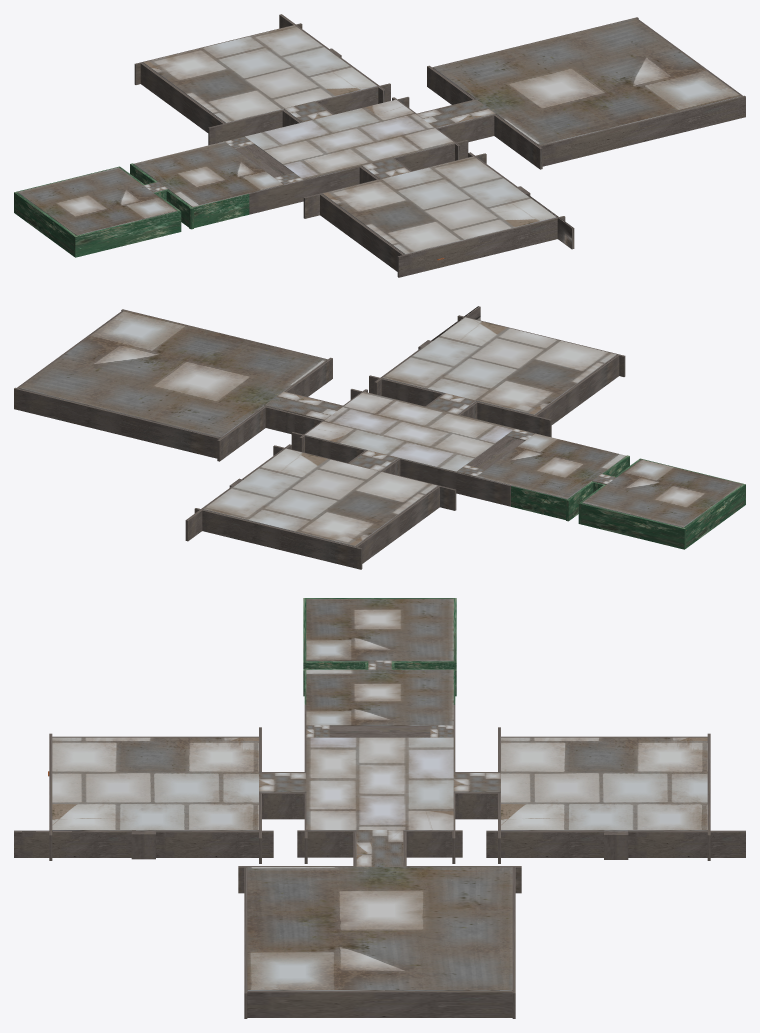
File: Stage.fbx
The picture shows the model from 3 angles, top to bottom: view 1: azimuth 30°, elevation 25°; view 2: azimuth 150°, elevation 25°; view 3: azimuth 270°, elevation 25°; orthographic projection. The views are drawn at different scales.
Parts seen in each view (by area): view 1: roof, wall_out, Green_Wall, wall_in; view 2: roof, wall_out, Green_Wall, wall_in; view 3: roof, wall_out, Green_Wall, wall_in.
Part boxes in pixels (left/top/right/bottom): roof: left=17, top=18, right=740, bottom=254; wall_out: left=134, top=14, right=745, bottom=277; Green_Wall: left=14, top=163, right=249, bottom=257; wall_in: left=235, top=144, right=292, bottom=177; roof: left=19, top=310, right=742, bottom=546; wall_out: left=14, top=306, right=625, bottom=569; Green_Wall: left=511, top=455, right=745, bottom=549; wall_in: left=467, top=436, right=524, bottom=469; roof: left=52, top=599, right=707, bottom=990; wall_out: left=14, top=704, right=745, bottom=1018; Green_Wall: left=303, top=598, right=456, bottom=704; wall_in: left=329, top=726, right=430, bottom=737.
Bounding box in the file's own units: 10836 × 339 × 8485.
